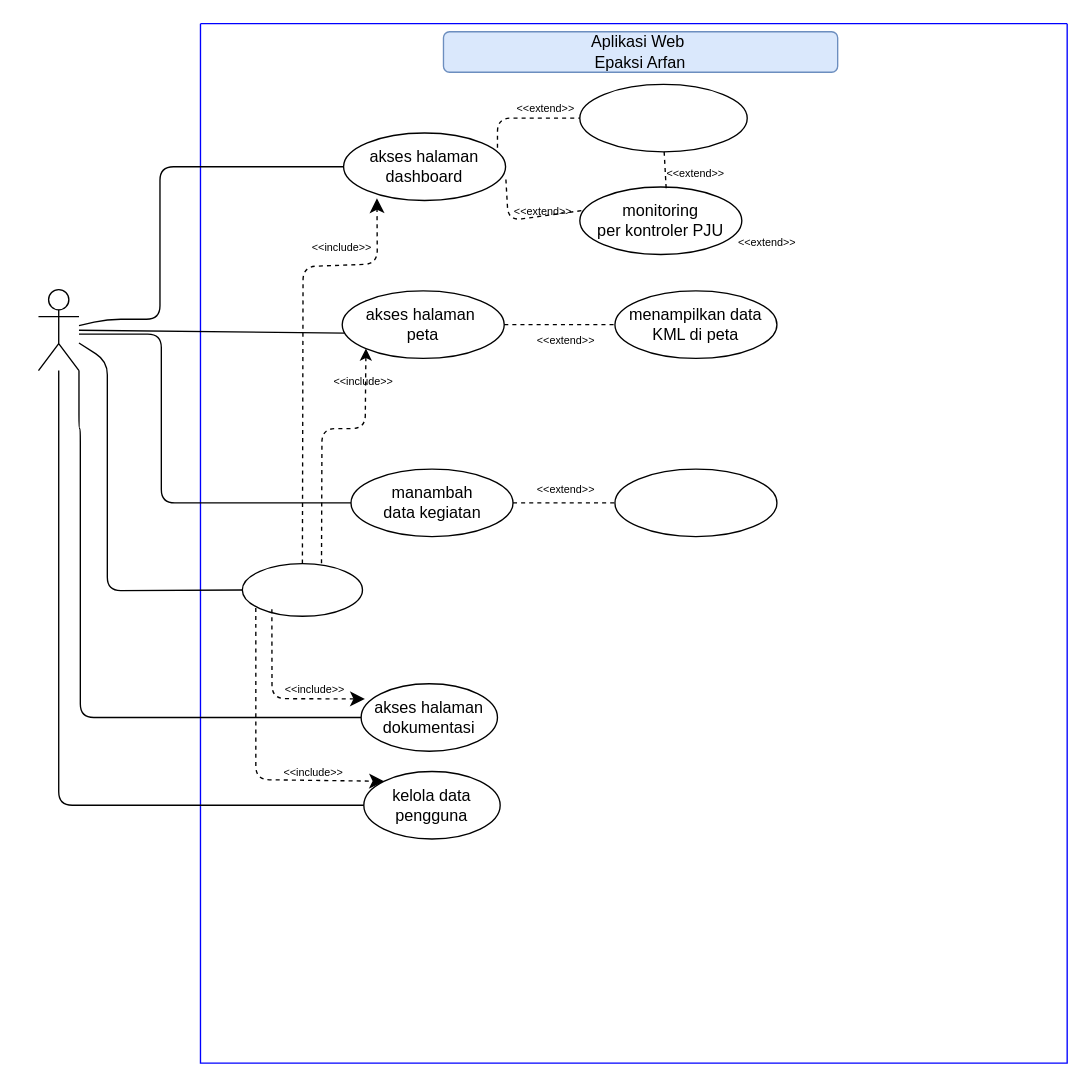
Some shapes in this 1091 by 1087 pixel diagram are drawn without their labels. Here are the shapes that lost their labels. From the top down, the box of each, then its label:
(578, 83, 747, 152): monitoring keseluruhan via google map
(37, 288, 79, 371): pengguna (admin)
(614, 468, 777, 537): menampilkan form input
(241, 562, 362, 616): melakukan login
